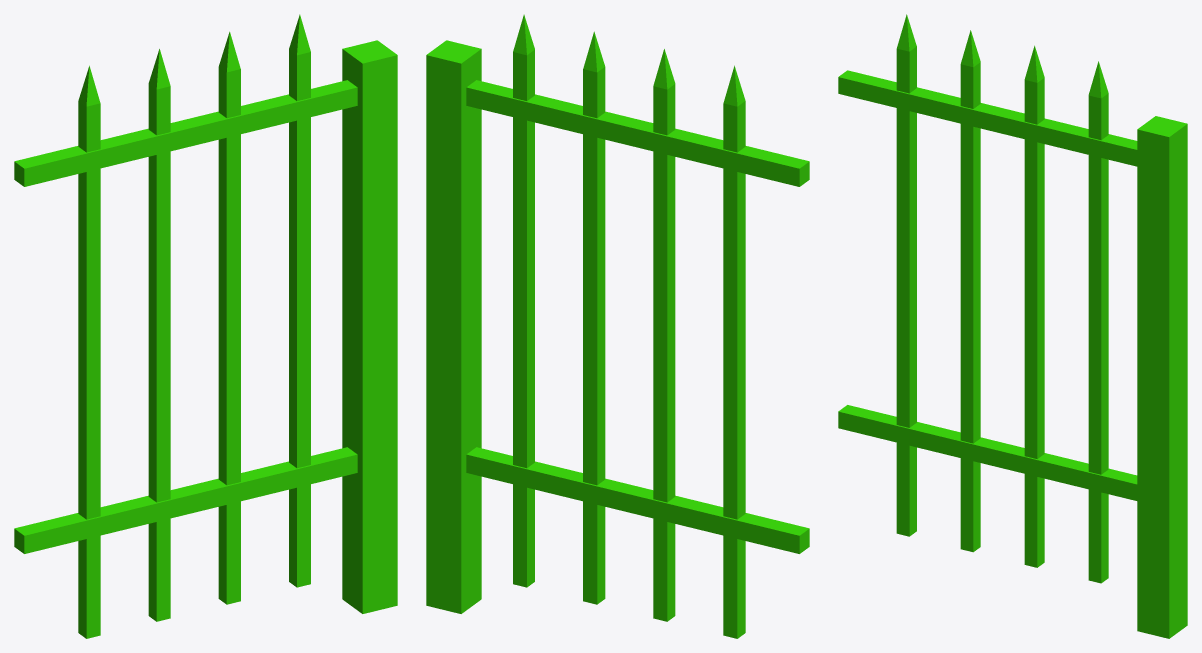
The model's file is fence2_04.fbx.
3 renders of one model, left to right at view 1: azimuth 30°, elevation 25°; view 2: azimuth 150°, elevation 25°; view 3: azimuth 330°, elevation 25°, orthographic. The views are drawn at different scales.
Visible parts, largest first — view 1: fence2_04; view 2: fence2_04; view 3: fence2_04.
Part boxes in pixels (bbox=[...]): fence2_04: bbox=[14, 14, 397, 638]; fence2_04: bbox=[426, 14, 809, 638]; fence2_04: bbox=[838, 14, 1187, 638].
Size of the model in its own units: 105 by 165 by 10.
